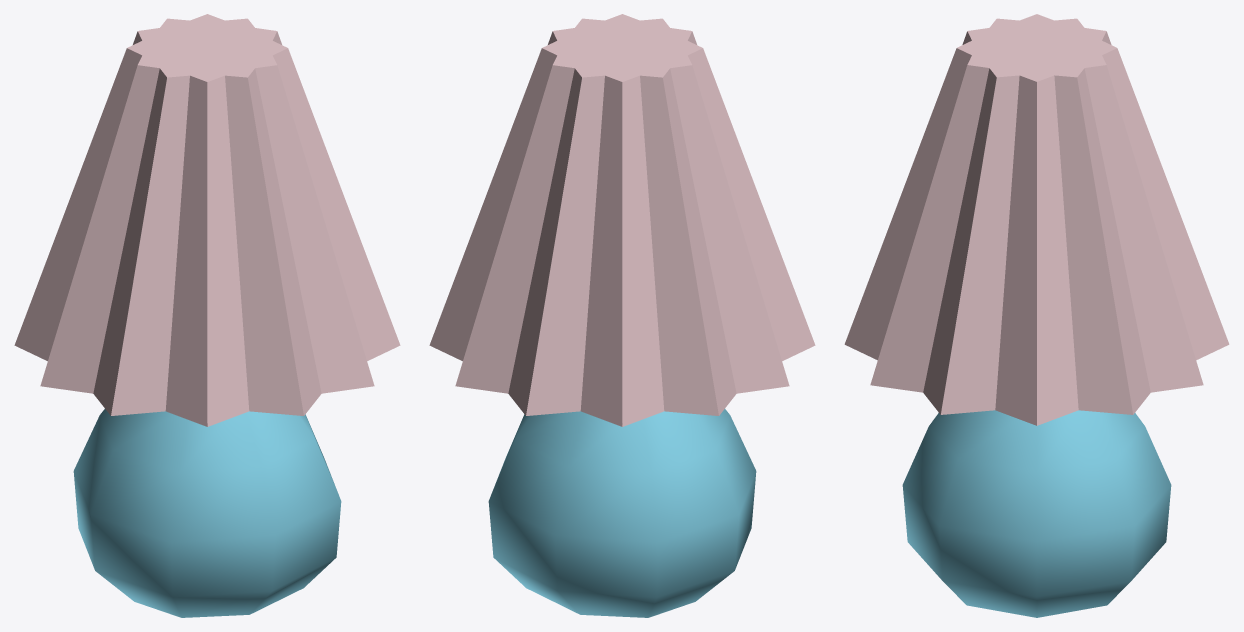
The model's file is lamp.fbx.
The picture shows the model from 3 angles, left to right: view 1: azimuth 30°, elevation 25°; view 2: azimuth 150°, elevation 25°; view 3: azimuth 270°, elevation 25°; orthographic projection.
Parts seen in each view (by area): view 1: Cylinder, Cube.006; view 2: Cylinder, Cube.006; view 3: Cylinder, Cube.006.
Boxes of the visible parts, box(x1,y1,x2,y2) form: Cylinder: box(14, 14, 400, 426); Cube.006: box(73, 409, 341, 617); Cylinder: box(429, 14, 815, 426); Cube.006: box(488, 409, 756, 617); Cylinder: box(844, 14, 1229, 425); Cube.006: box(902, 410, 1171, 617).
Size of the model in its own units: 200 by 314 by 200.
